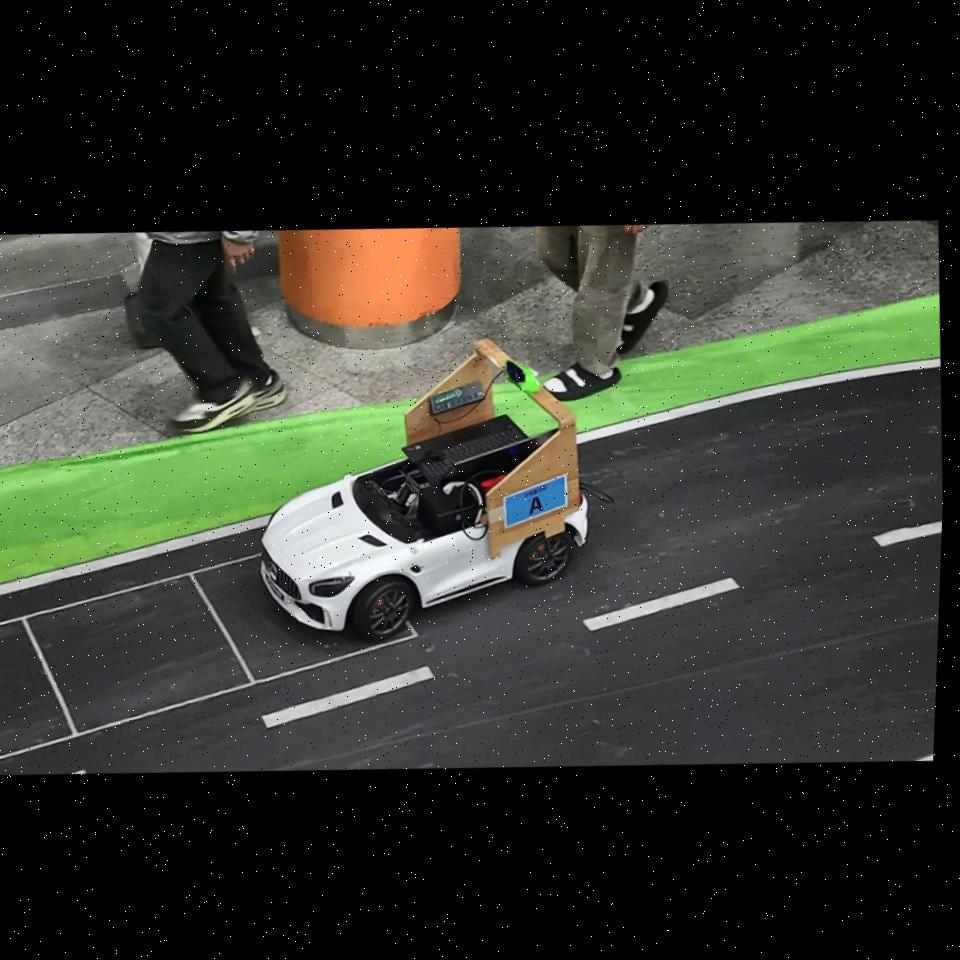broken_line: (261, 666, 435, 728), (582, 578, 740, 631), (872, 521, 942, 547), (69, 770, 86, 774)
